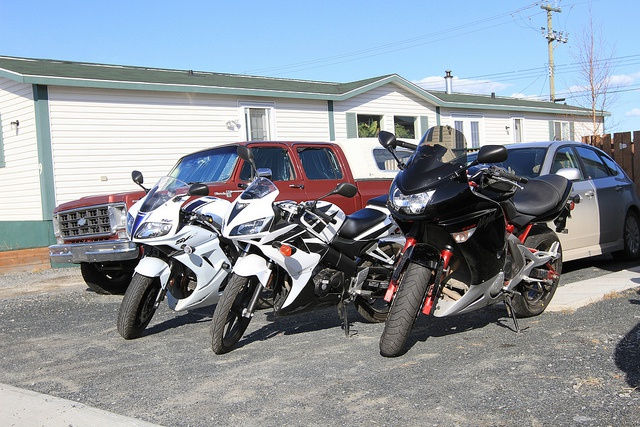non-vehicle: (373, 121, 579, 357), (211, 147, 403, 353), (116, 170, 252, 341)
